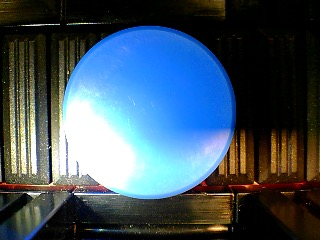BLANK: (63, 26, 236, 199)
